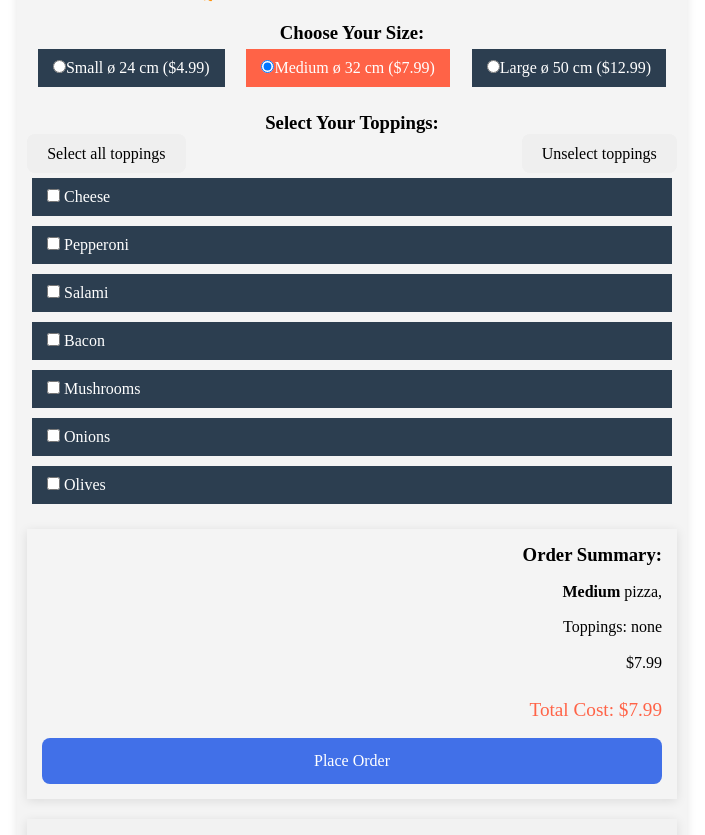
CustomPizza Component › deleting an order removes it from the orders list
Click the button "Place Order": (352, 761) 42,738 -> 662,784
(page scrolled)
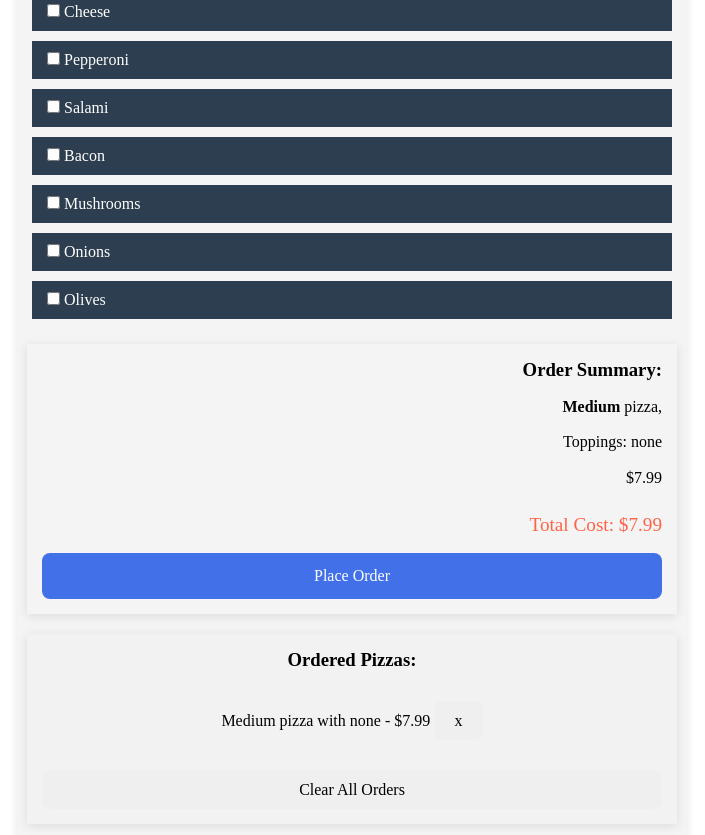
Click the button "x": (458, 721) 434,701 -> 483,740
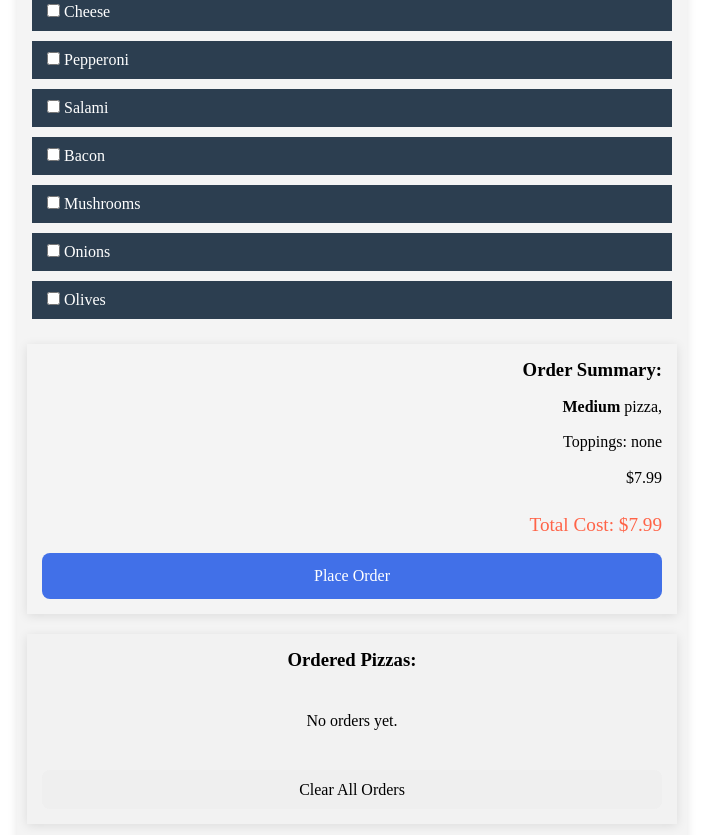
Expected: the text "Medium pizza with none - $7.99" is gone
